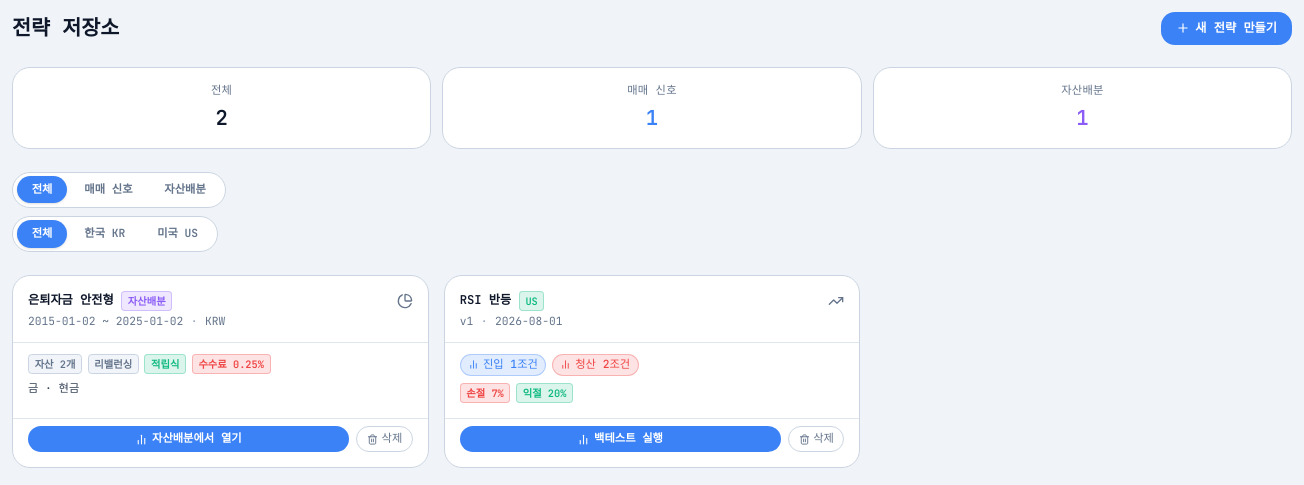
Scenario: 걸러 보기 › 자산배분만 보면 매매 신호가 사라진다
The image size is (1304, 485).
Expected: the text "은퇴자금 안전형" is shown, left=28, top=292, right=114, bottom=310
Click the tab "자산배분" at (185, 190), box left=149, top=176, right=221, bottom=204
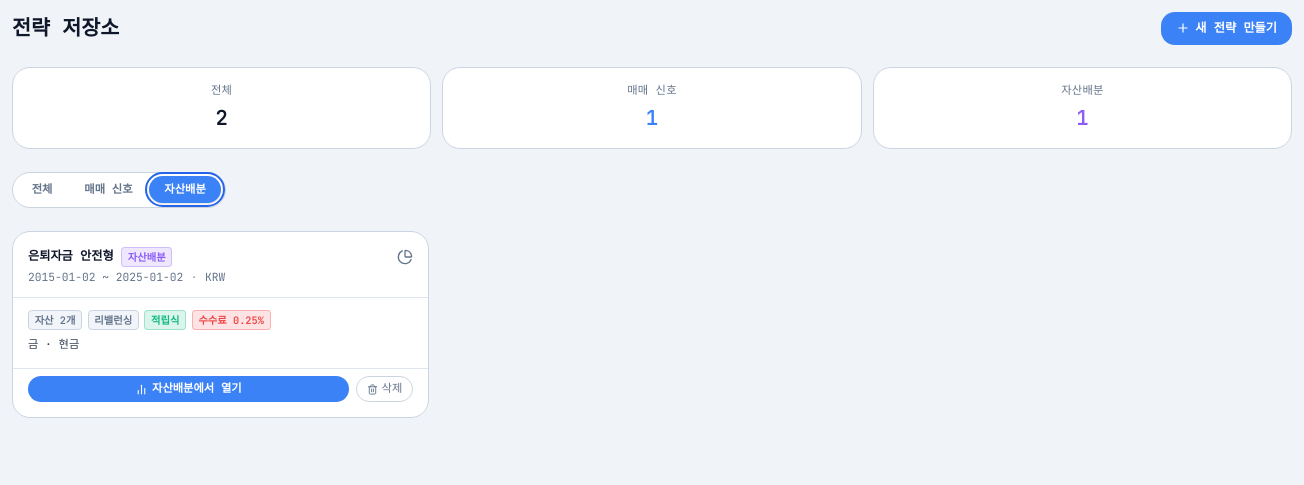
Expected: the text "은퇴자금 안전형" is shown, left=28, top=248, right=114, bottom=266
Expected: the text "RSI 반등" is gone
